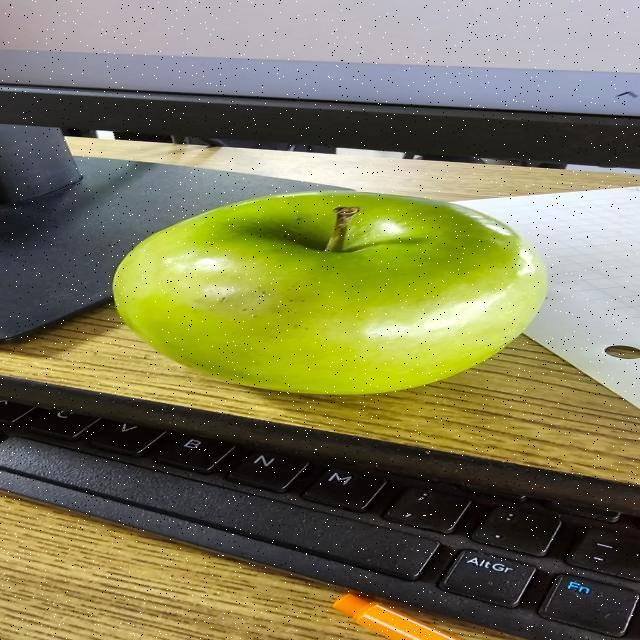Apel Granny Smith: (94, 184, 566, 398)
